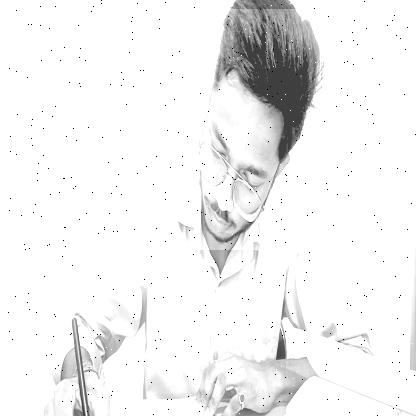Distracted: (197, 9, 321, 250)
